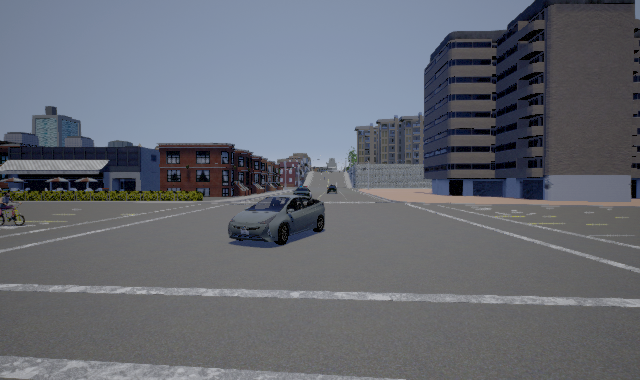bike: (1, 192, 31, 228)
vehicle: (228, 186, 325, 245), (324, 182, 341, 199)
